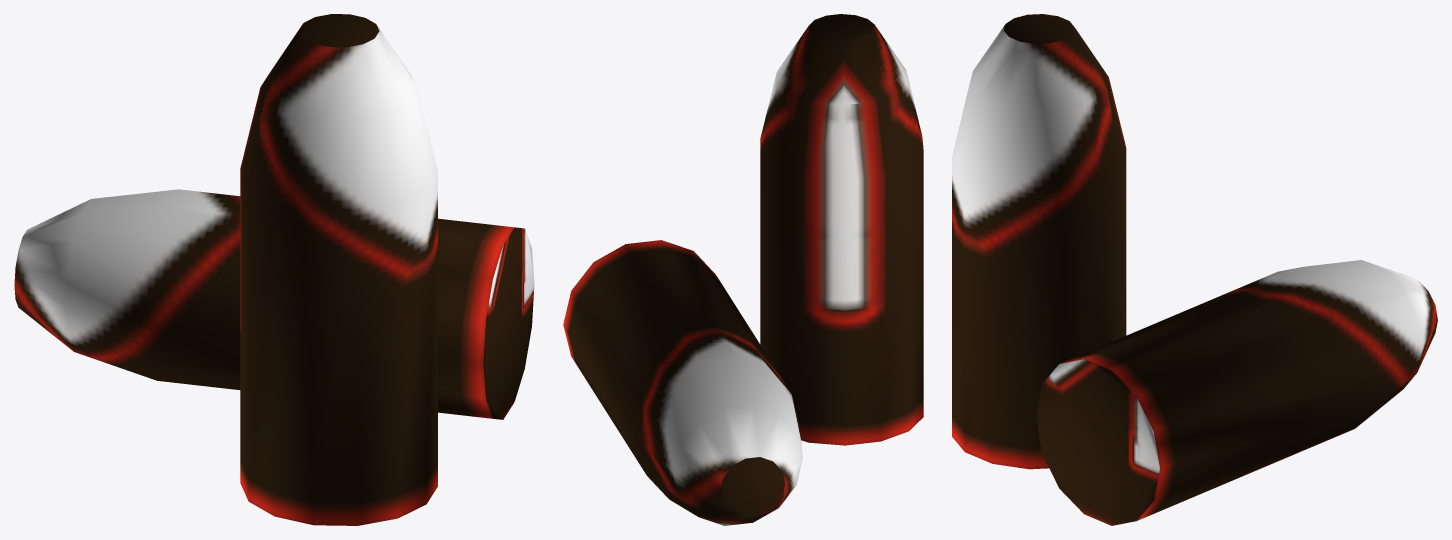
The model's file is list.ico.obj.
The picture shows the model from 3 angles, left to right: view 1: azimuth 30°, elevation 25°; view 2: azimuth 150°, elevation 25°; view 3: azimuth 270°, elevation 25°; orthographic projection. The views are drawn at different scales.
Bounding box in the file's own units: 3.44 × 3.81 × 4.15.
